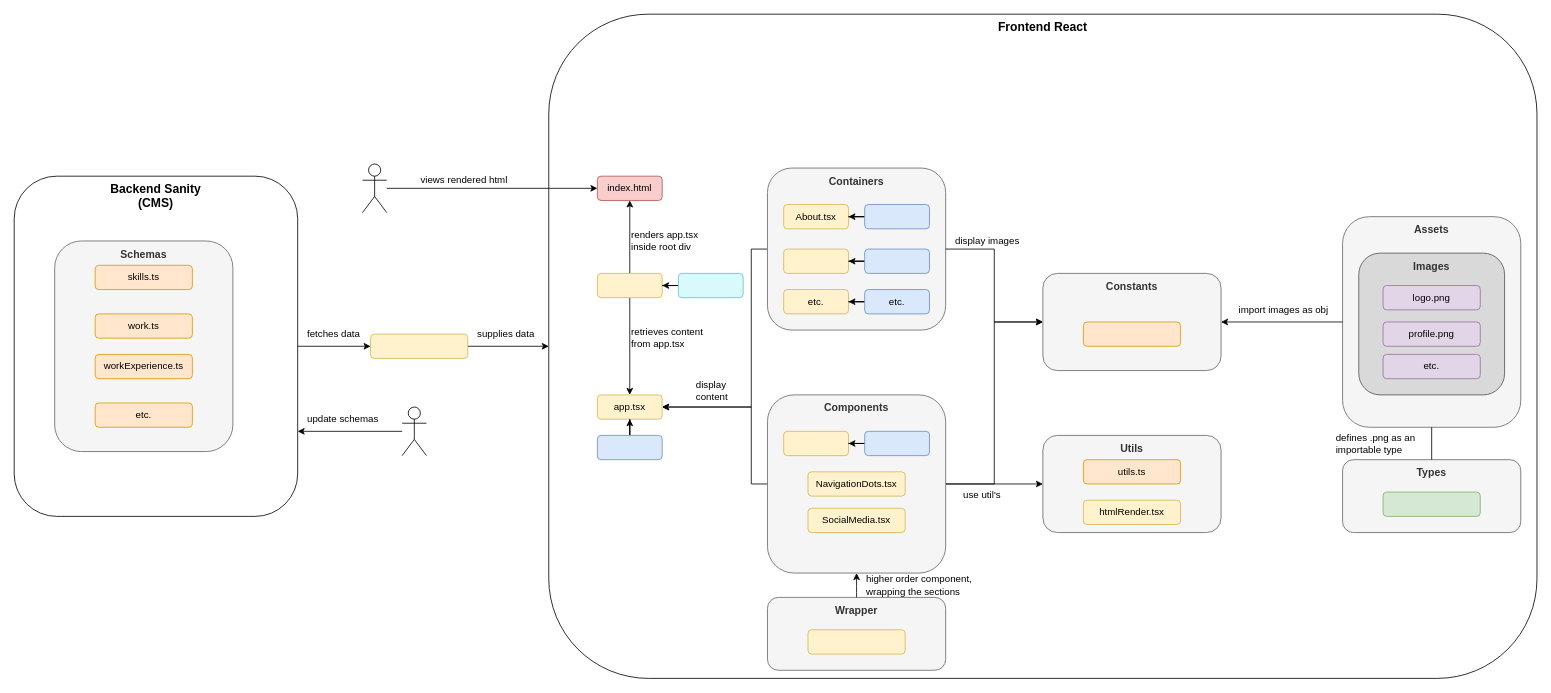
This 1551x693 diagram has some shape labels left out. Here are the shapes that lost their labels. From the top down, the centre of each, then its label:
At pixel 374 188: "User".
At pixel 896 216: "About.scss".
At pixel 815 260: "Header.tsx".
At pixel 896 260: "Header.scss".
At pixel 629 285: "index.tsx".
At pixel 710 285: "index.css".
At pixel 419 345: "client.tsx".
At pixel 1132 333: "images.ts".
At pixel 413 431: "Admin".
At pixel 629 447: "app.scss".
At pixel 815 443: "Navbar.tsx".
At pixel 896 443: "Navbar.scss".
At pixel 1431 503: "images.d.ts".
At pixel 856 641: "AppWrap.tsx".
